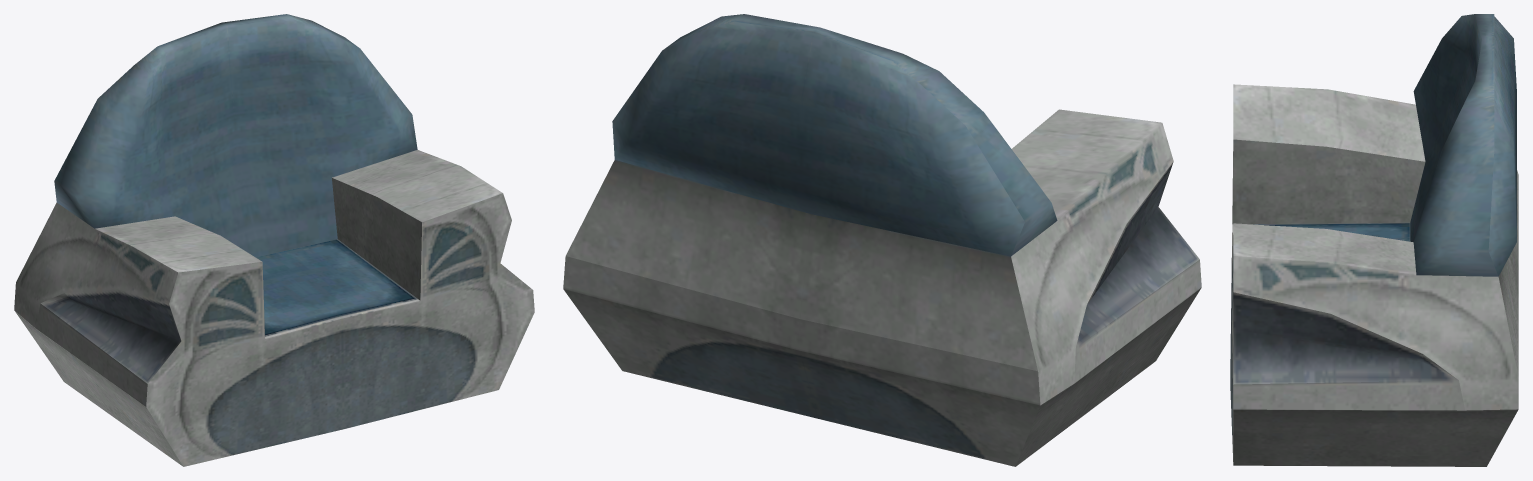
The model's file is frn_jedi_chair_light_s1_l1.fbx.
The picture shows the model from 3 angles, left to right: view 1: azimuth 30°, elevation 25°; view 2: azimuth 150°, elevation 25°; view 3: azimuth 270°, elevation 25°; orthographic projection. The views are drawn at different scales.
Visible parts, largest first — view 1: mesh_node; view 2: mesh_node; view 3: mesh_node.
Part boxes in pixels (left/top/right/bottom): mesh_node: left=14, top=14, right=534, bottom=466; mesh_node: left=563, top=14, right=1201, bottom=466; mesh_node: left=1230, top=14, right=1518, bottom=466.
Bounding box in the file's own units: 1.58 × 1.21 × 0.9241.
Materials: 1 (1 with a texture image).
